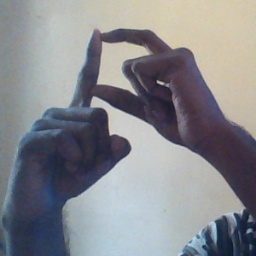D: (59, 21, 187, 131)
